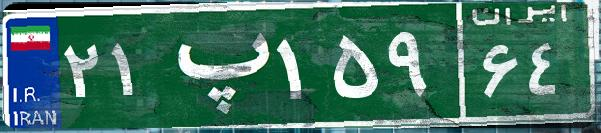1: (273, 28, 330, 110), (110, 28, 158, 105)
2: (57, 26, 110, 107)
4: (525, 38, 570, 115)
5: (330, 28, 385, 110)
6: (475, 38, 525, 113)
9: (385, 28, 445, 110)
پ: (158, 15, 273, 115)
